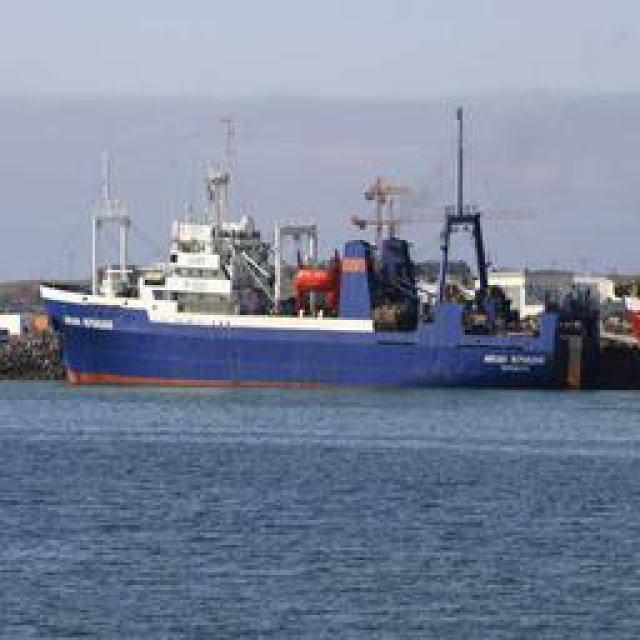Ship: (42, 112, 582, 390)
